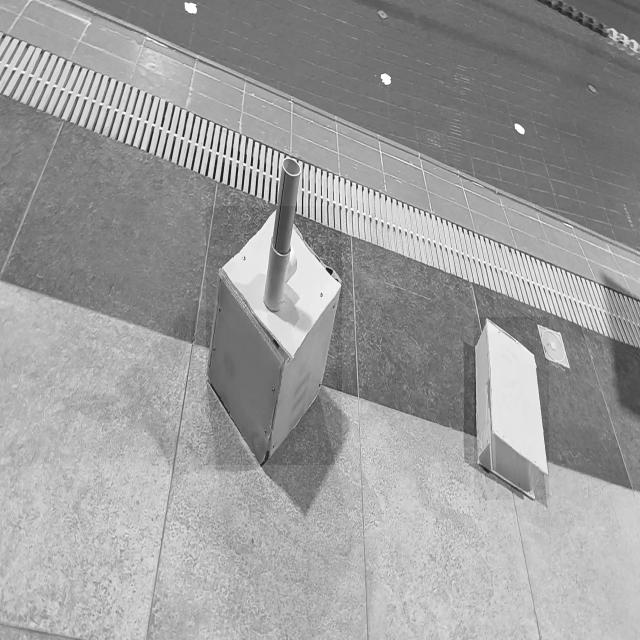Cube: (206, 206, 342, 465)
Cuboid: (474, 317, 549, 500)
